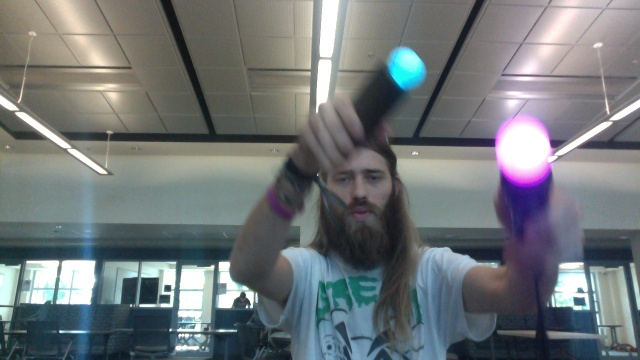wand: (496, 116, 550, 185), (387, 48, 426, 90)
